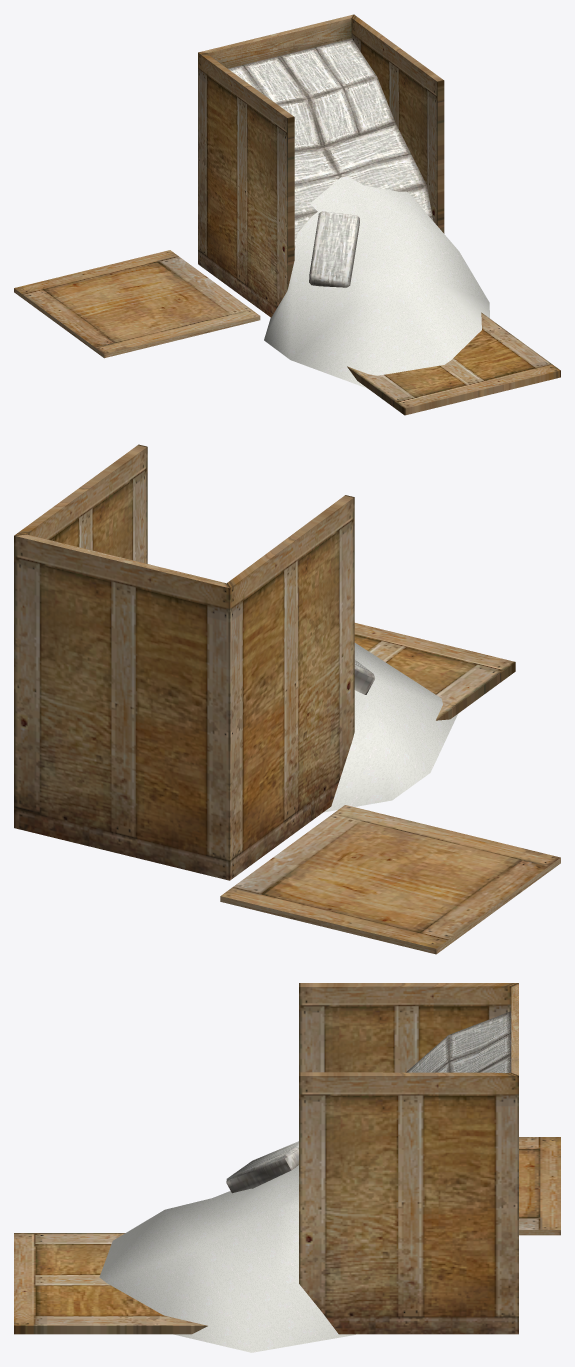
File: COCR01X.glb
3 renders of one model, top to bottom at view 1: azimuth 30°, elevation 25°; view 2: azimuth 150°, elevation 25°; view 3: azimuth 270°, elevation 25°, orthographic. The views are drawn at different scales.
Visible parts, largest first — view 1: _COCR01X; view 2: _COCR01X; view 3: _COCR01X.
Boxes of the visible parts, x1,y1,x2,y2 form: _COCR01X: (14,14,560,415); _COCR01X: (14,444,560,954); _COCR01X: (14,983,560,1352).
Size of the model in its own units: 1.42 by 0.8326 by 1.58.
2 materials, 2 textured.
